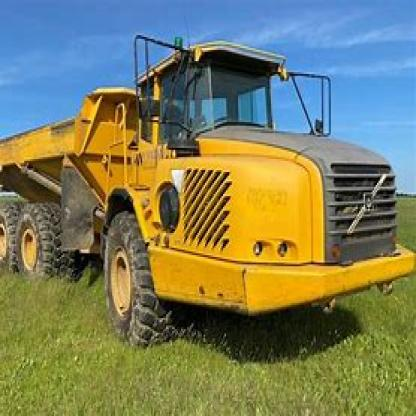dump_truck: (5, 22, 414, 355)
